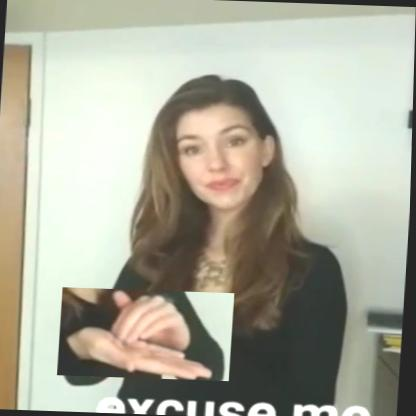ExcuseMe: (60, 287, 236, 381)
